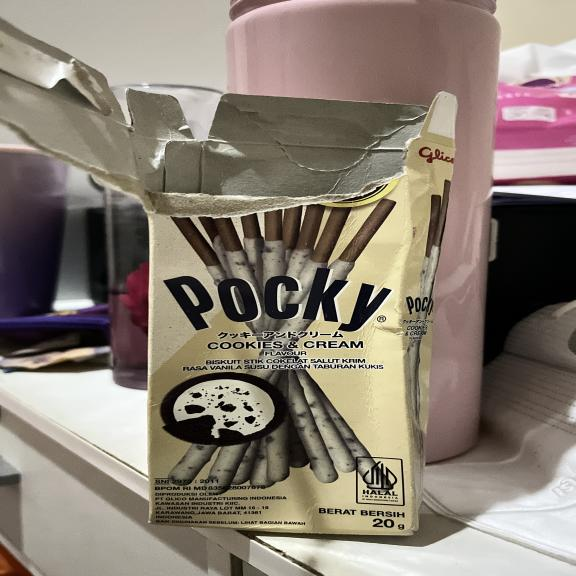Kertas: (145, 143, 455, 536)
